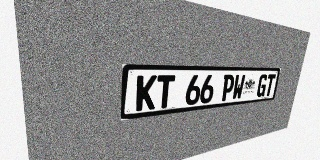6: (185, 75, 202, 106), (199, 75, 216, 104)
G: (256, 74, 268, 97)
K: (136, 75, 157, 111)
P: (220, 75, 235, 101)
T: (155, 75, 175, 109), (264, 74, 276, 96)
W: (231, 74, 246, 100)
